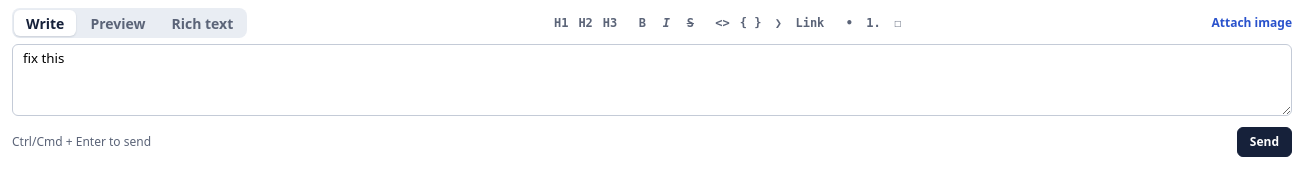
Test: Composer formatting › wraps the selection from the toolbar and keeps it selected
The image size is (1304, 174).
Click the button named "Bold".
click(642, 23)  # box [630,11,654,35]
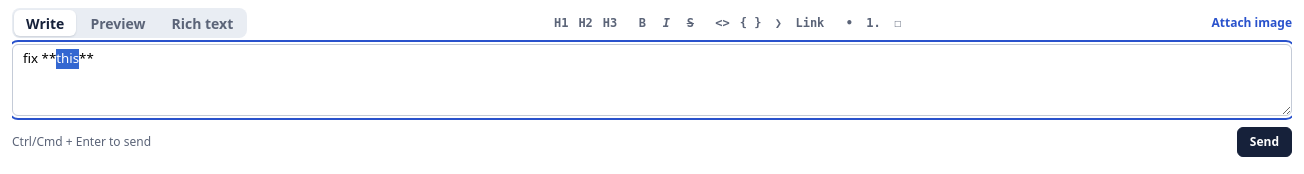
Check: the text box holds "fix **this**", box [12,44,1292,116]
Click the button named "Bold".
click(642, 23)  # box [630,11,654,35]
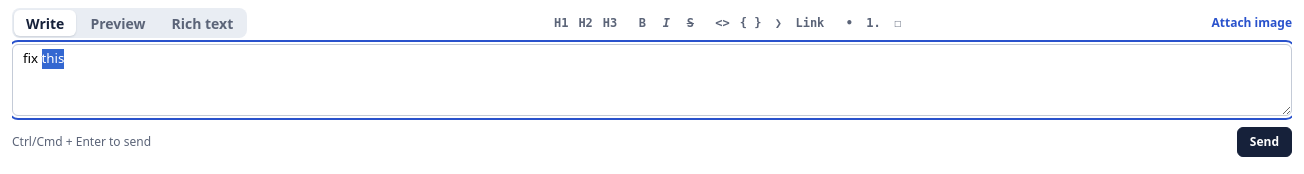
Check: the text box holds "fix this", box [12,44,1292,116]
